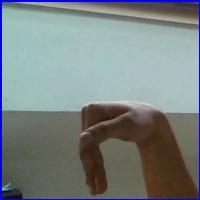A: (74, 95, 169, 188)
